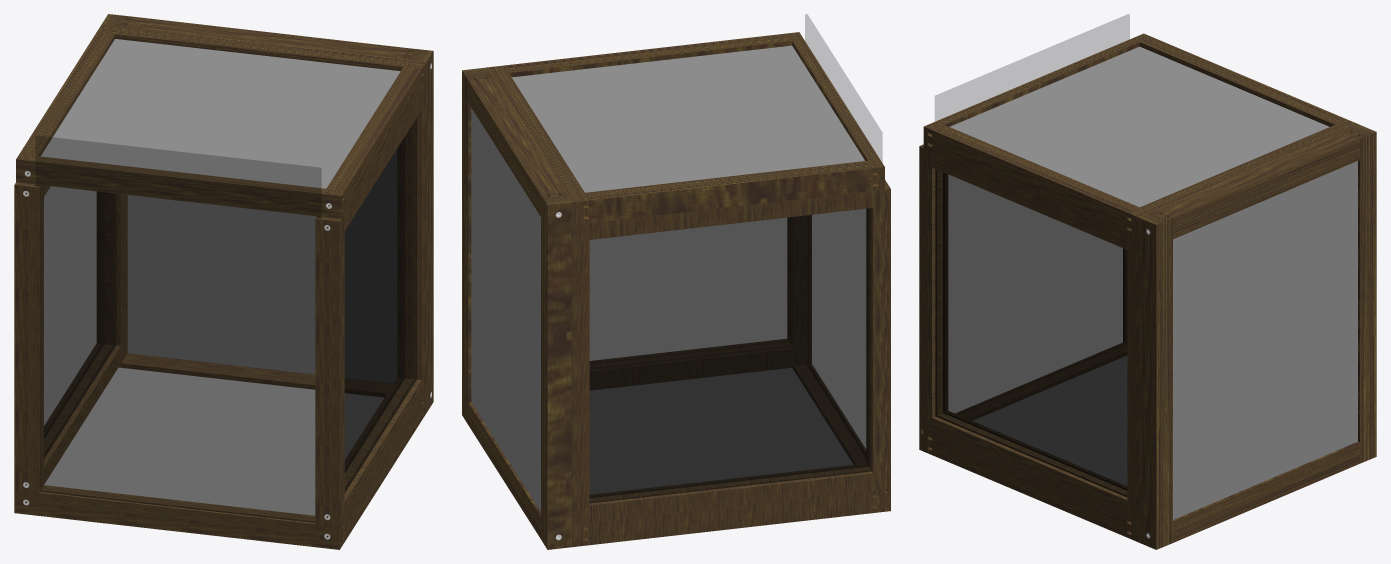
The model's file is glass.glb.
The picture shows the model from 3 angles, left to right: view 1: azimuth 30°, elevation 25°; view 2: azimuth 150°, elevation 25°; view 3: azimuth 270°, elevation 25°; orthographic projection. The views are drawn at different scales.
Visible parts, largest first — view 1: Object_3, Object_0, Object_4; view 2: Object_4, Object_0, Object_3; view 3: Object_0, Object_4, Object_3.
Boxes of the visible parts, x1,y1,x2,y2 form: Object_3: (35, 118, 416, 522); Object_0: (40, 39, 400, 515); Object_4: (14, 14, 433, 549); Object_4: (462, 32, 890, 549); Object_0: (471, 45, 864, 511); Object_3: (589, 14, 882, 502); Object_0: (950, 46, 1357, 519); Object_4: (919, 33, 1376, 549); Object_3: (935, 14, 1129, 496).
Size of the model in its own units: 0.7778 by 0.6561 by 0.7778.
4 materials, 1 textured.
